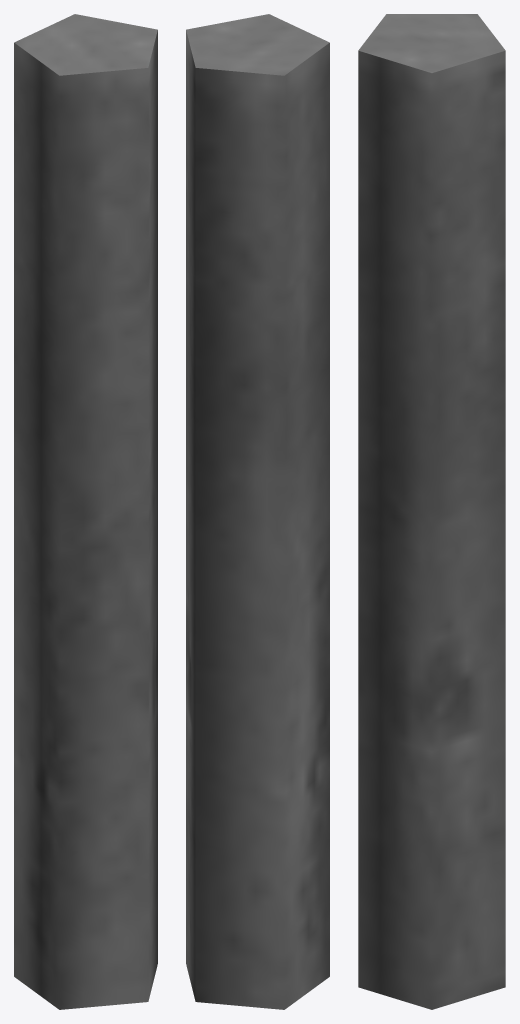
File: jctlowPoleA.fbx
The picture shows the model from 3 angles, left to right: view 1: azimuth 30°, elevation 25°; view 2: azimuth 150°, elevation 25°; view 3: azimuth 270°, elevation 25°; orthographic projection.
Visible parts, largest first — view 1: jctlowPoleA; view 2: jctlowPoleA; view 3: jctlowPoleA.
Boxes of the visible parts, x1=… form: jctlowPoleA: x1=14, y1=14, x2=157, y2=1009; jctlowPoleA: x1=186, y1=14, x2=329, y2=1009; jctlowPoleA: x1=358, y1=14, x2=505, y2=1009.
Size of the model in its own units: 10.85 by 80 by 11.41.
Materials: 1 (1 with a texture image).
